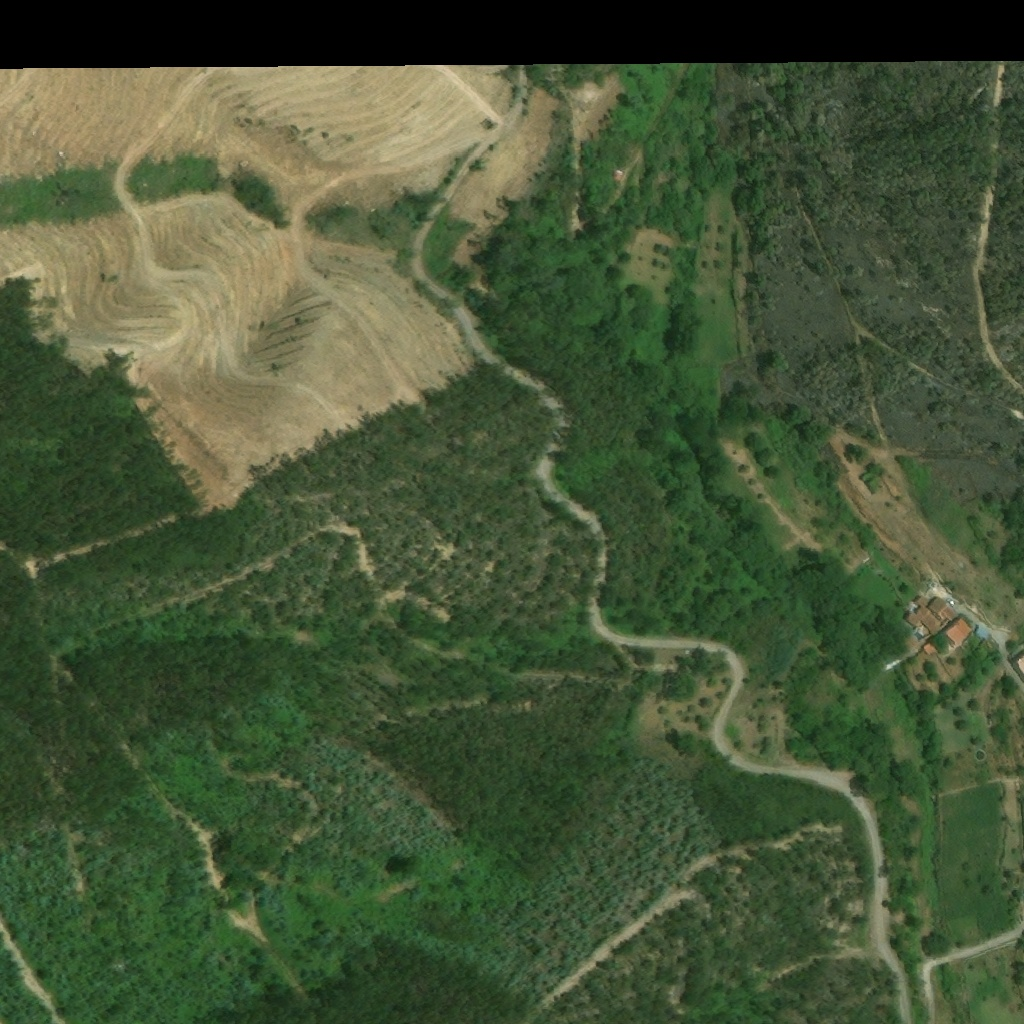0 no-damage: (904, 596, 957, 642), (945, 617, 974, 647), (922, 643, 936, 657)
4 un-classified: (1009, 650, 1023, 679)
